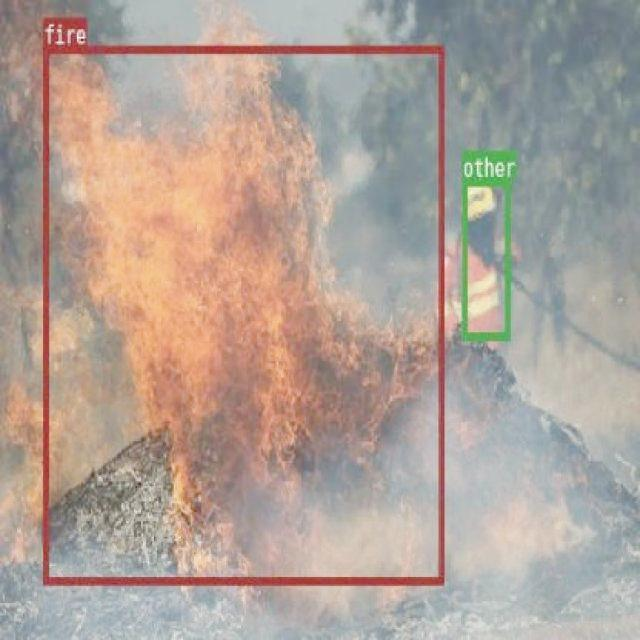fire: (41, 44, 444, 584)
